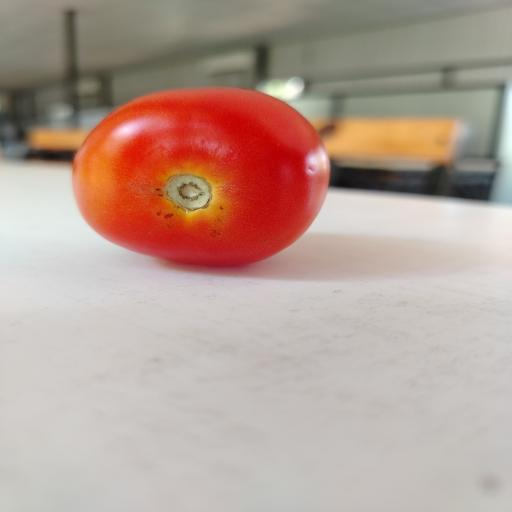ripe: (73, 88, 329, 265)
